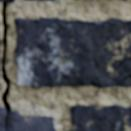brick: (15, 19, 130, 88), (72, 106, 130, 130)
broken_brick: (0, 107, 56, 130), (0, 0, 16, 4), (23, 0, 55, 1)
crack: (0, 2, 11, 128)
